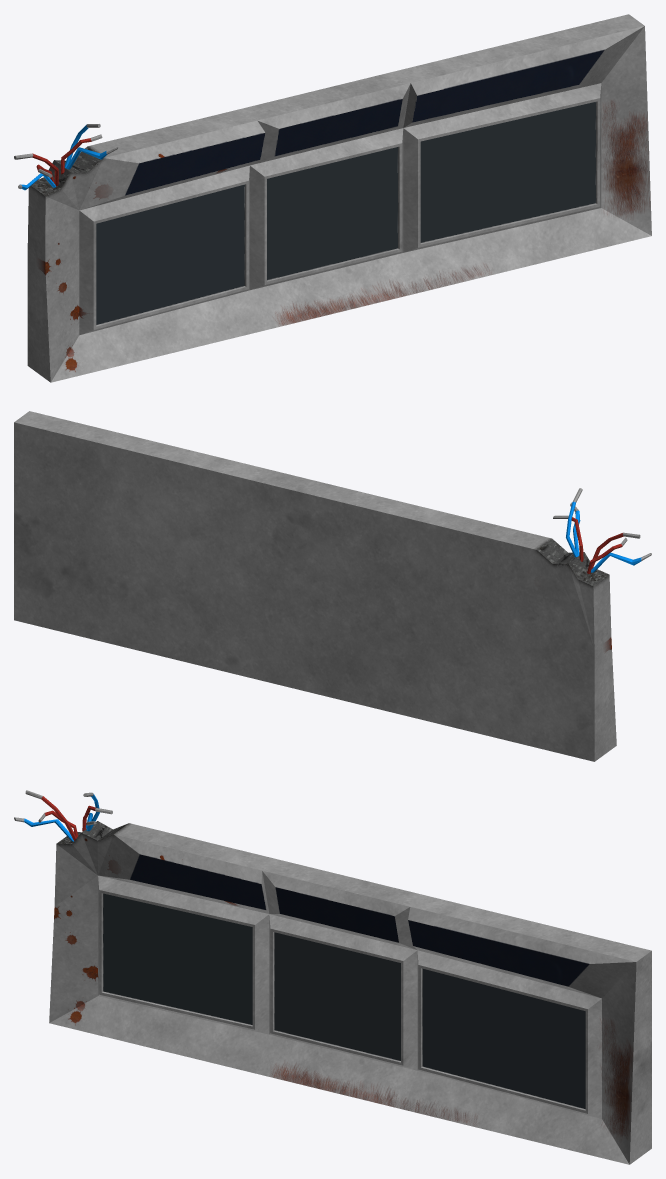
File: ScoreboardV2.fbx
The picture shows the model from 3 angles, top to bottom: view 1: azimuth 30°, elevation 25°; view 2: azimuth 150°, elevation 25°; view 3: azimuth 330°, elevation 25°; orthographic projection. The views are drawn at different scales.
Visible parts, largest first — view 1: scoreBoard_GEO, wires_GEO2, wires_GEO1; view 2: scoreBoard_GEO, wires_GEO1, wires_GEO2; view 3: scoreBoard_GEO, wires_GEO1.
Boxes of the visible parts, x1=… form: scoreBoard_GEO: x1=27, y1=14, x2=651, y2=382; wires_GEO2: x1=61, y1=124, x2=118, y2=174; wires_GEO1: x1=14, y1=153, x2=58, y2=190; scoreBoard_GEO: x1=14, y1=411, x2=616, y2=761; wires_GEO1: x1=587, y1=532, x2=651, y2=573; wires_GEO2: x1=553, y1=488, x2=583, y2=561; scoreBoard_GEO: x1=49, y1=821, x2=651, y2=1164; wires_GEO1: x1=14, y1=790, x2=78, y2=841.
Bounding box in the file's own units: 24.32 × 9.22 × 2.26.
